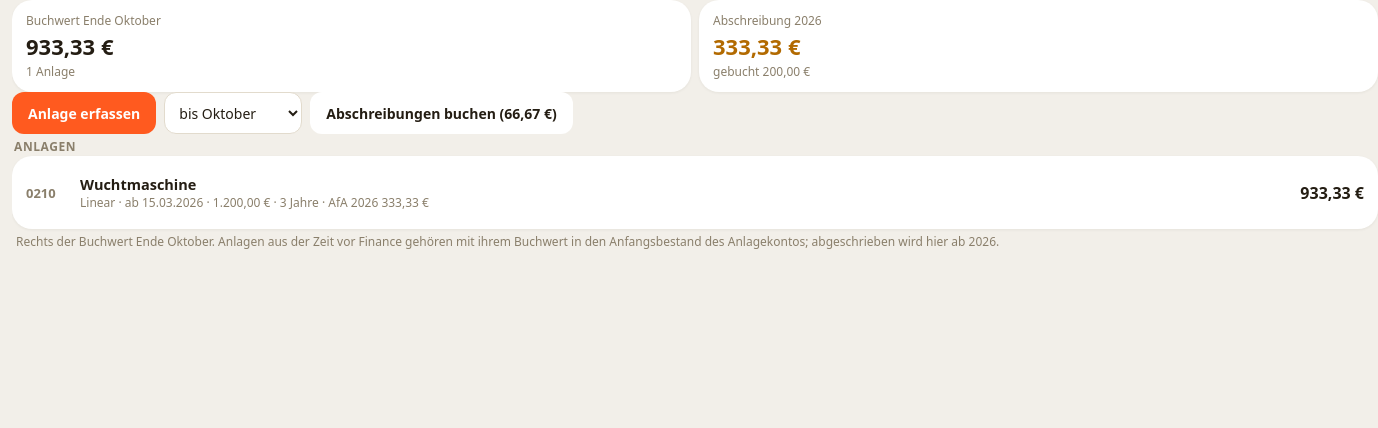
FinanceAnlagen › Buchwert und Abschreibungslauf bis Oktober
What coordinates should you click on to do the following:
click the button "Abschreibungen buchen (66,67 €)"
I would click on:
 (442, 113)
Its box is [310,92,573,134].
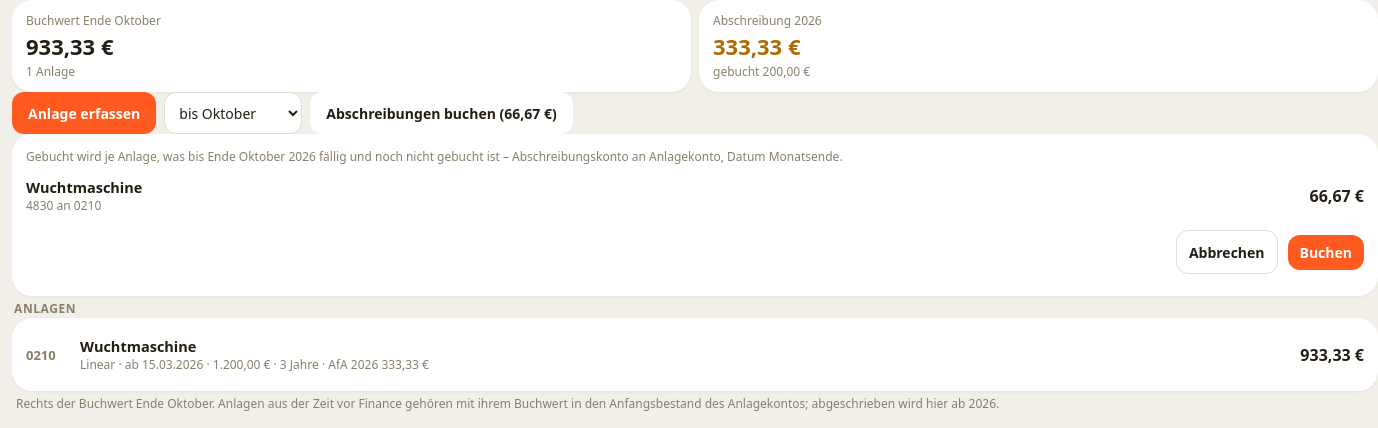
What coordinates should you click on to do the following:
click the button "Buchen"
I would click on:
 (1326, 252)
Its box is [1288,234,1364,270].
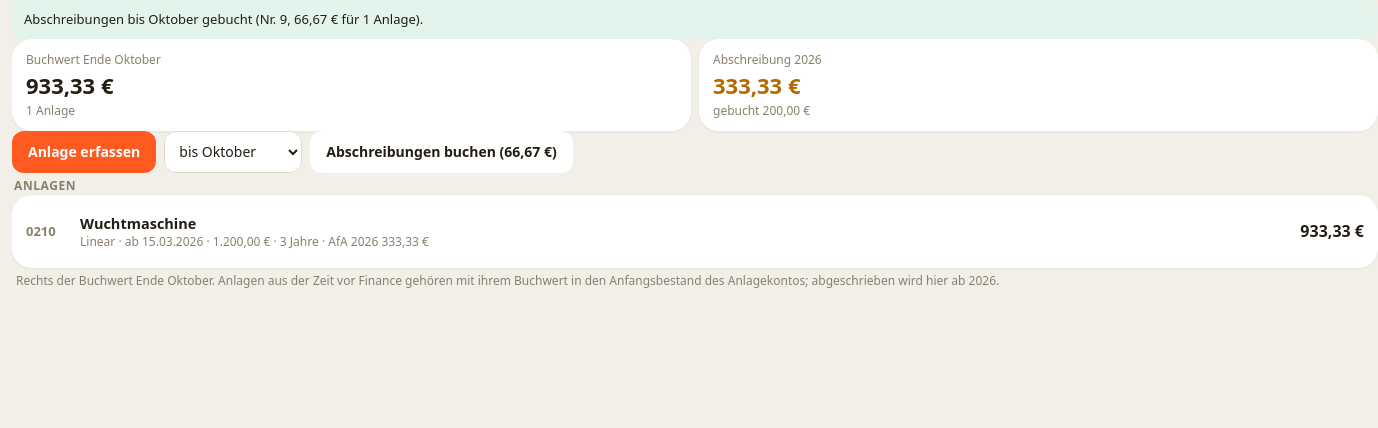
Check: the text "Abschreibungen bis Oktober gebucht (Nr. 9, 66,67 € für 1 Anlage)." is shown, box [12,0,1377,39]
